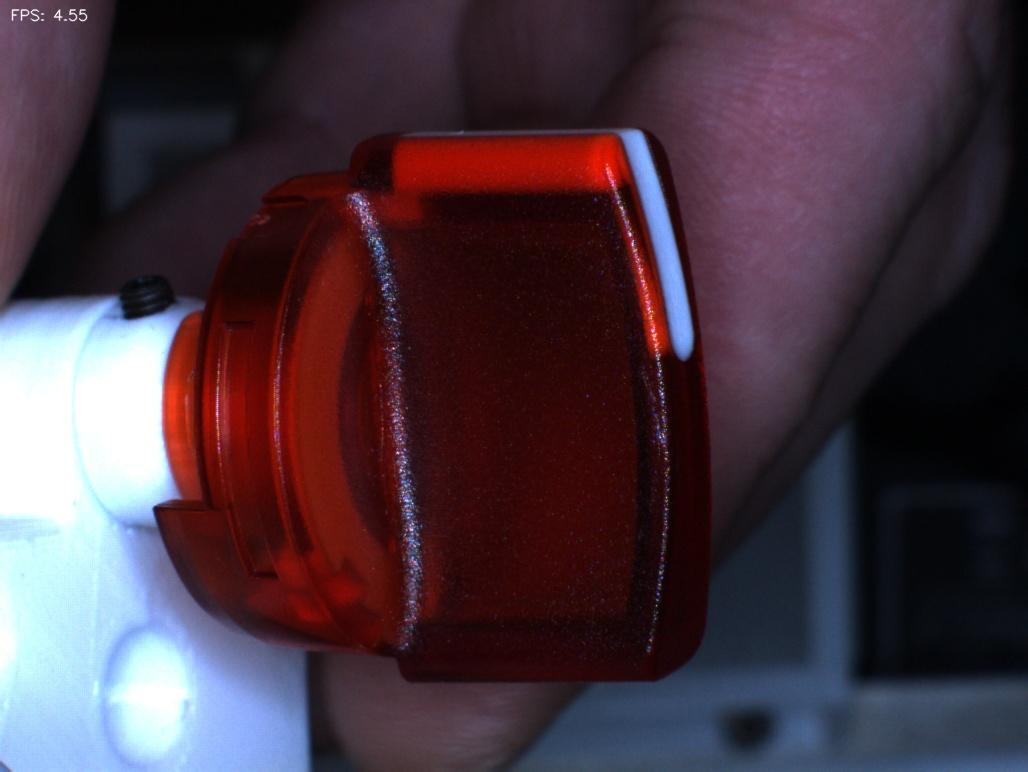Givrage: (608, 346, 686, 504)
